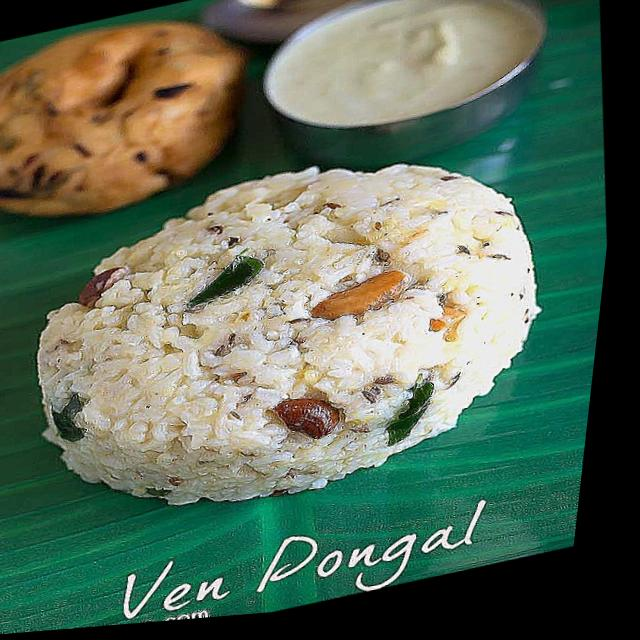PONGAL: (37, 163, 538, 505)
VADA: (0, 19, 247, 216)
WHITE CHUTNEY: (270, 0, 543, 128)
